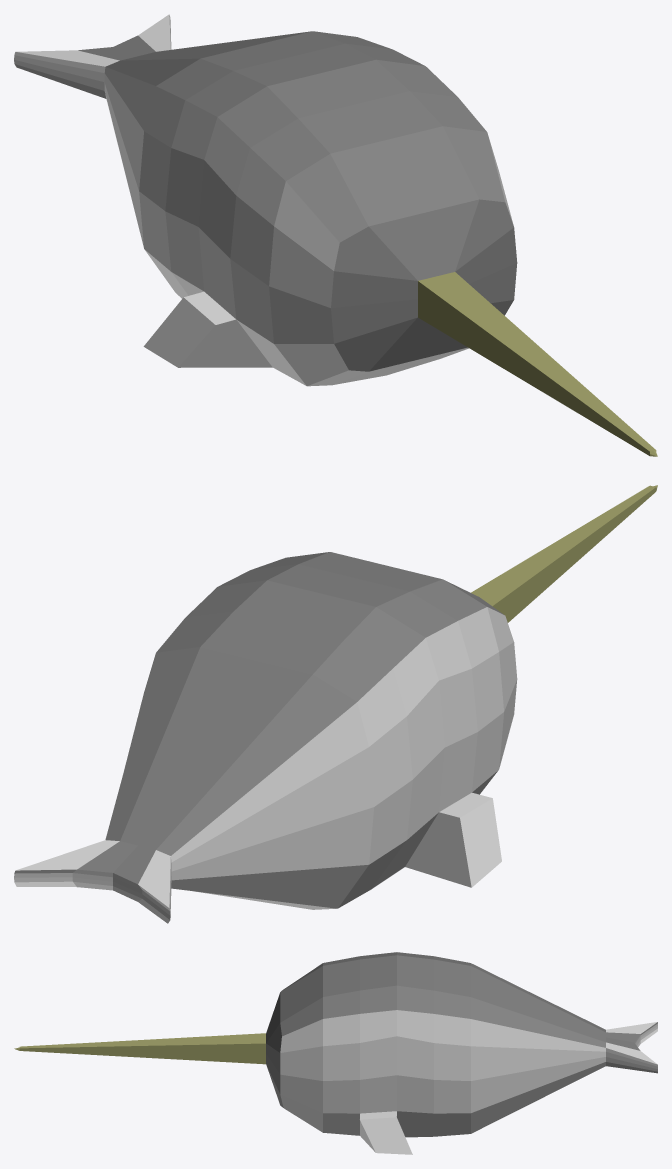
The model's file is Narwhal.fbx.
3 views of the same model, one above another, from view 1: azimuth 30°, elevation 25°; view 2: azimuth 150°, elevation 25°; view 3: azimuth 270°, elevation 25° (orthographic). The views are drawn at different scales.
Visible parts, largest first — view 1: Cube; view 2: Cube; view 3: Cube.
Boxes of the visible parts, x1,y1,x2,y2 form: Cube: (14, 14, 657, 456); Cube: (14, 485, 657, 923); Cube: (14, 952, 657, 1154).
Bounding box in the file's own units: 292 × 217 × 871.
